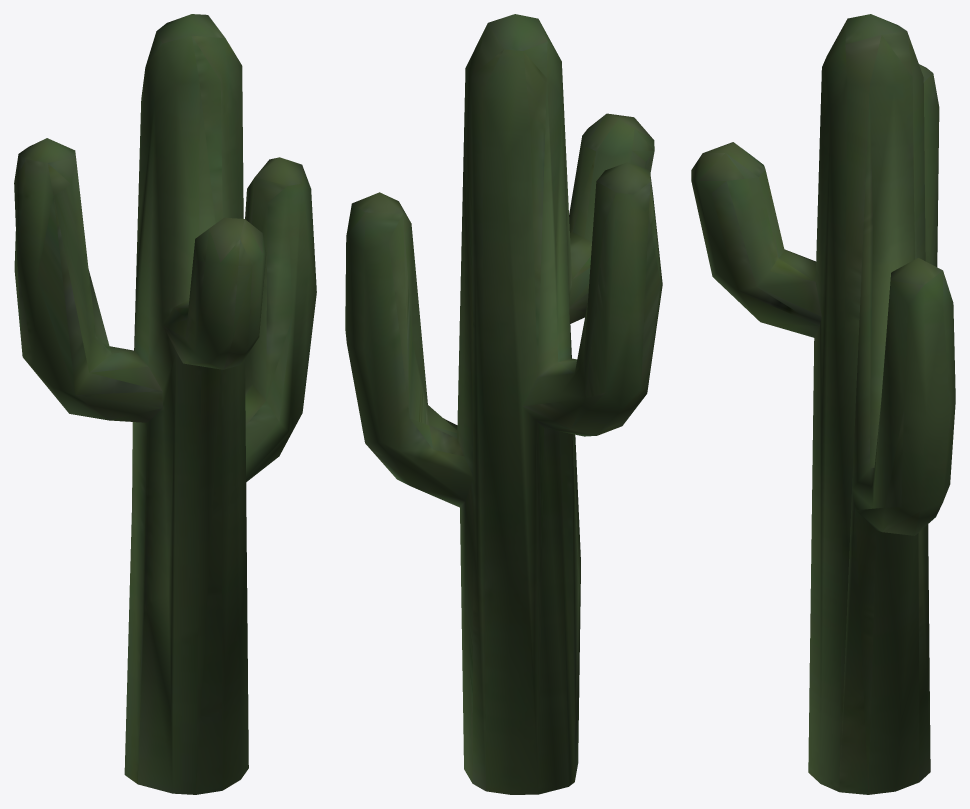
Rendered from cactus_lod2.glb.
3 renders of one model, left to right at view 1: azimuth 30°, elevation 25°; view 2: azimuth 150°, elevation 25°; view 3: azimuth 270°, elevation 25°, orthographic.
Parts seen in each view (by area): view 1: cactus_lod2; view 2: cactus_lod2; view 3: cactus_lod2.
Part boxes in pixels (bbox=[...]): cactus_lod2: bbox=[14, 14, 316, 794]; cactus_lod2: bbox=[345, 14, 662, 794]; cactus_lod2: bbox=[691, 14, 955, 794].
Bounding box in the file's own units: 1.52 × 3.63 × 1.15.
Materials: 1 (1 with a texture image).
